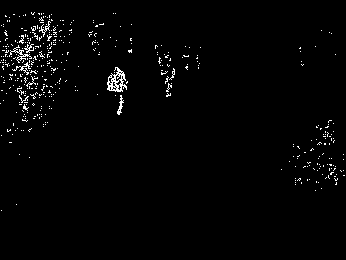person: (152, 41, 176, 99), (107, 66, 130, 115)
